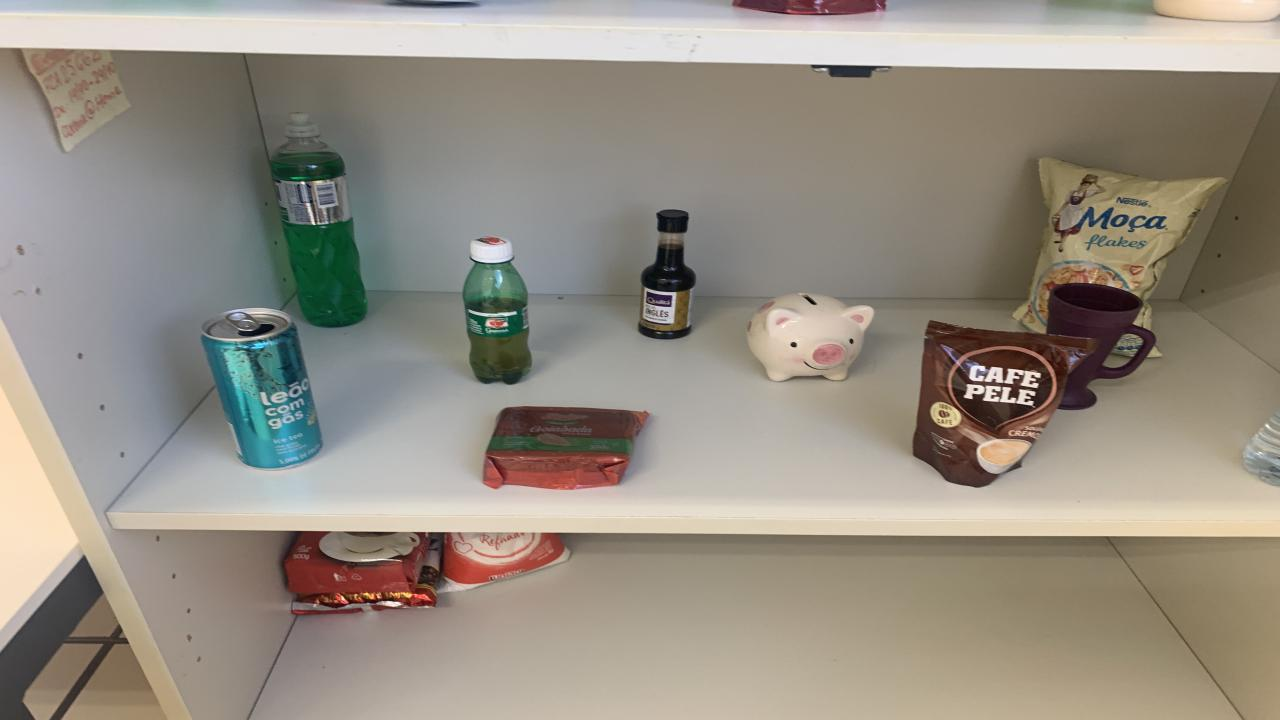Coffee-Pantry_Items: (912, 321, 1098, 488)
Detergent-Cleanup_Items: (912, 321, 1098, 488), (270, 112, 368, 326)
English_Sauce-Pantry_Items: (1012, 158, 1225, 332), (638, 210, 695, 339)
Flakes-Snacks: (1012, 158, 1225, 330)
Guarana-Drinks: (462, 236, 532, 384)
Guava-Snacks: (482, 407, 648, 489)
Mayonnaise-Pantry_Items: (1152, 0, 1280, 22)
Pig_Safe-Miscellaneous: (748, 292, 875, 381)
Tea-Drinks: (202, 308, 322, 469)
Tomato_Sauce-Pantry_Items: (732, 0, 885, 15)
